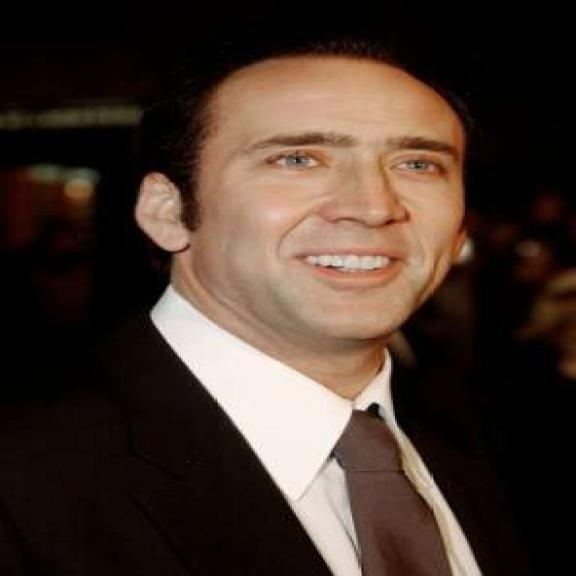face: (136, 60, 464, 344)
